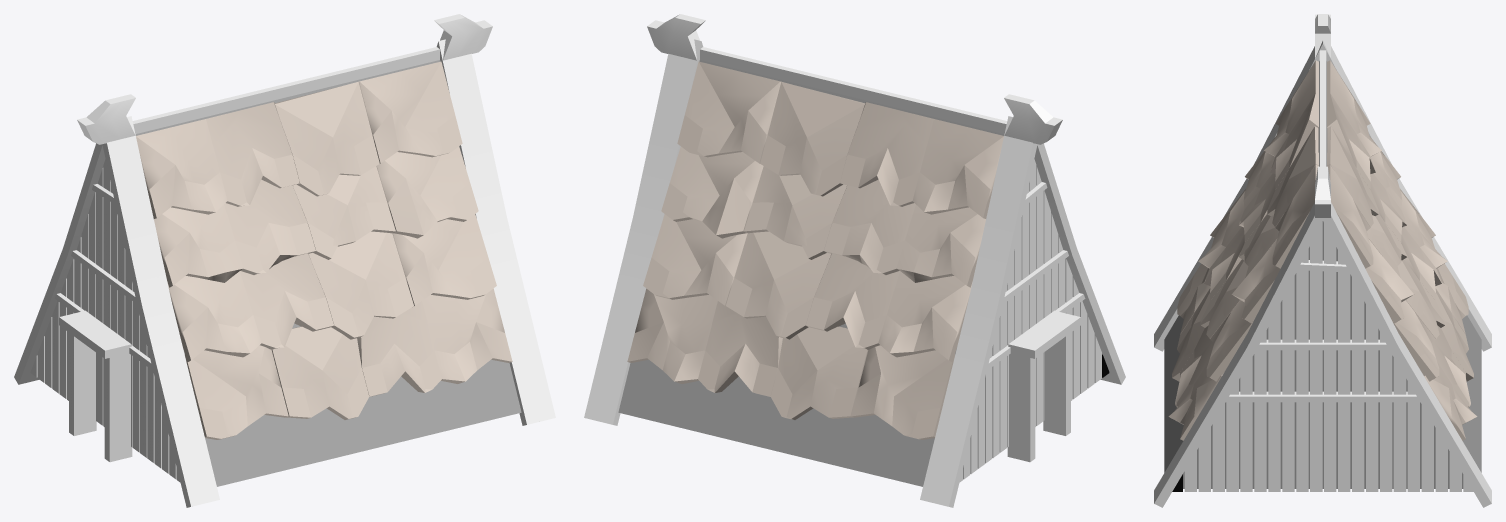
Rendered from livinghouse2.FBX.
The picture shows the model from 3 angles, left to right: view 1: azimuth 30°, elevation 25°; view 2: azimuth 150°, elevation 25°; view 3: azimuth 270°, elevation 25°; orthographic projection. The views are drawn at different scales.
Visible parts, largest first — view 1: Shape015, Shape002, Box001, Shape007, Shape003, Shape005, Shape008, Shape009, Shape004, Shape010, Shape001; view 2: Shape016, Shape002, Box001, Shape007, Shape003, Shape005, Shape008, Shape009, Shape004, Shape010, Shape001; view 3: Shape011, Shape015, Shape016, Shape002, Box001, Shape001, Shape010, Shape009, Shape005, Shape008.
Part boxes in pixels (left/top/right/bottom): Shape015: left=136, top=61, right=512, bottom=439; Shape002: left=14, top=39, right=555, bottom=507; Box001: left=135, top=60, right=521, bottom=486; Shape007: left=30, top=159, right=180, bottom=482; Shape003: left=69, top=333, right=132, bottom=462; Shape005: left=133, top=47, right=439, bottom=133; Shape008: left=132, top=49, right=439, bottom=123; Shape009: left=77, top=94, right=135, bottom=144; Shape004: left=59, top=310, right=131, bottom=358; Shape010: left=434, top=14, right=492, bottom=60; Shape001: left=54, top=184, right=152, bottom=370; Shape016: left=627, top=61, right=1003, bottom=439; Shape002: left=584, top=39, right=1125, bottom=507; Box001: left=618, top=60, right=1004, bottom=486; Shape007: left=959, top=159, right=1109, bottom=482; Shape003: left=1007, top=333, right=1070, bottom=462; Shape005: left=700, top=47, right=900, bottom=102; Shape008: left=831, top=87, right=1007, bottom=133; Shape009: left=1004, top=94, right=1062, bottom=144; Shape004: left=1008, top=310, right=1080, bottom=358; Shape010: left=647, top=14, right=705, bottom=60; Shape001: left=987, top=182, right=1085, bottom=370; Shape011: left=1172, top=222, right=1473, bottom=491; Shape015: left=1168, top=60, right=1318, bottom=440; Shape016: left=1327, top=60, right=1477, bottom=440; Shape002: left=1154, top=41, right=1491, bottom=507; Box001: left=1164, top=61, right=1481, bottom=488; Shape001: left=1226, top=260, right=1419, bottom=402; Shape010: left=1315, top=166, right=1330, bottom=219; Shape009: left=1315, top=14, right=1330, bottom=58; Shape005: left=1319, top=101, right=1326, bottom=166; Shape008: left=1319, top=50, right=1326, bottom=102.
Size of the model in its own units: 43.19 by 34.7 by 32.51.
